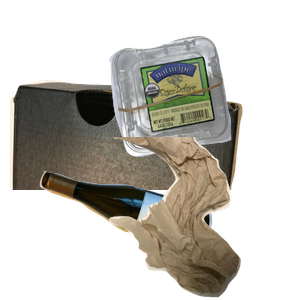cardboard: (10, 77, 245, 257)
glass: (37, 168, 242, 300)
plastic: (106, 34, 300, 183)
trash: (103, 137, 300, 300)
